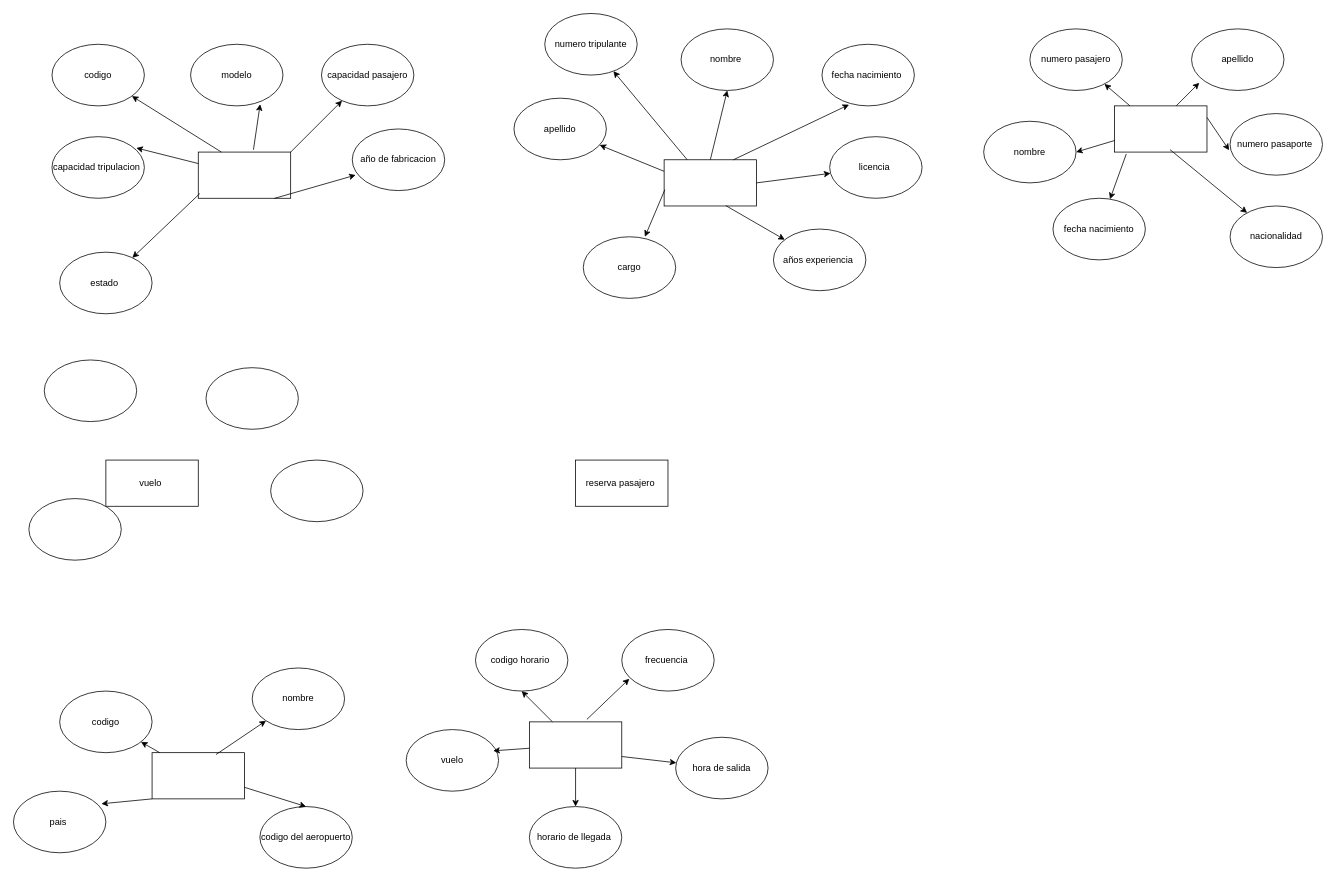
Some shapes in this 1336 by 882 pixel diagram are drawn without their labels. Each missing label, with the centre of its shape:
avion: point (244, 174)
ciudad: point (197, 775)
horario de vuelo: point (575, 744)
pasajero: point (1160, 128)
tripulación: point (710, 182)
